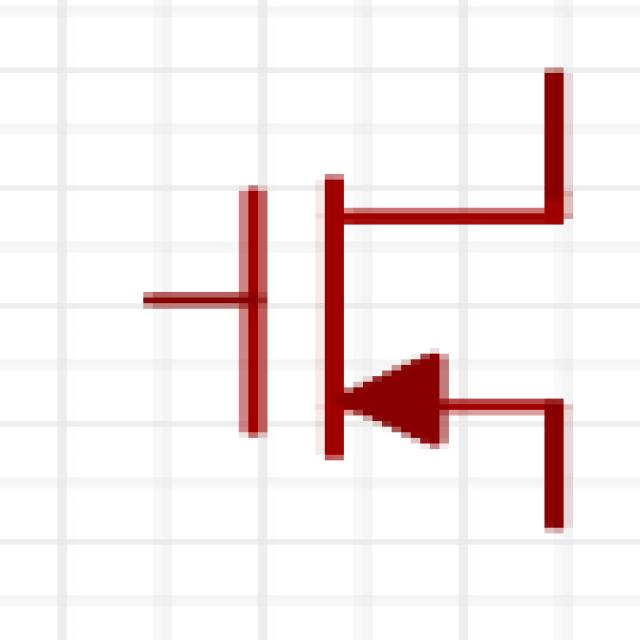pmos: (100, 70, 640, 552)
